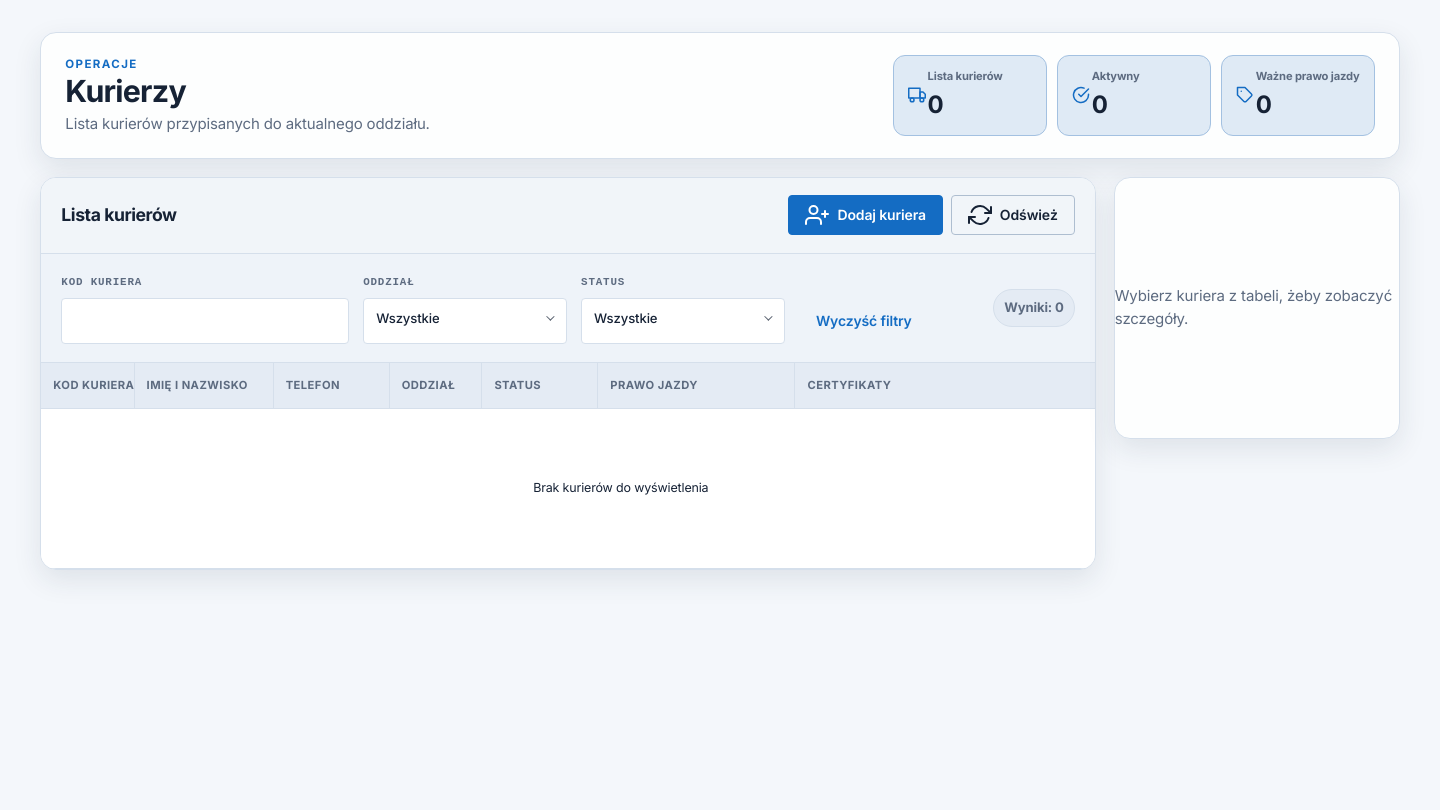
Test: Couriers › uses a real department value and submits a completed create form
The image size is (1440, 810).
Click the button "Dodaj kuriera". click: (866, 215)
box: top-left (788, 195), bottom-right (943, 235)
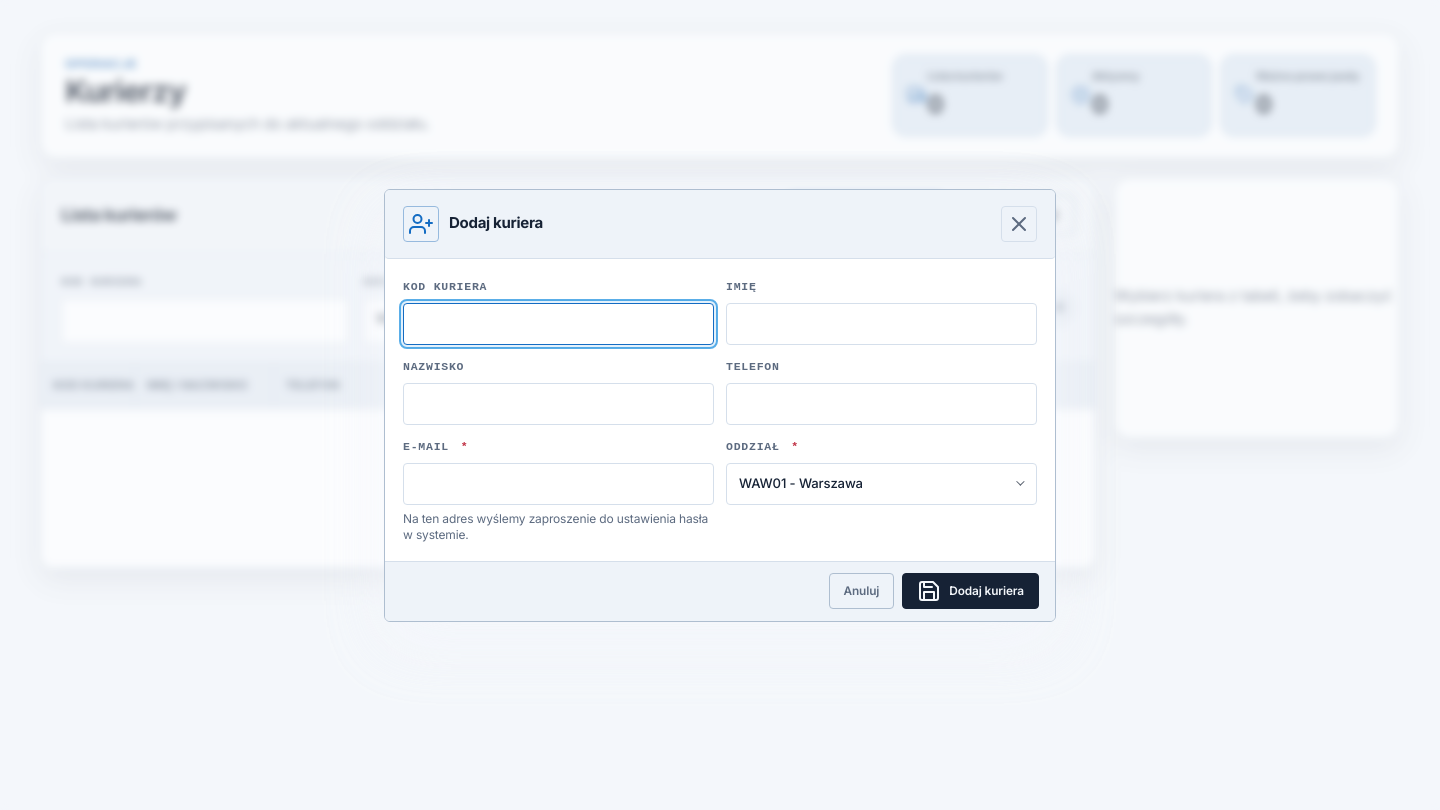
Expected: the dropdown named "Oddział" reads "WAW01 - Warszawa", top-left (727, 464), bottom-right (1036, 502)
Type "KUR-01" into the field labelled "Kod kuriera". click: (558, 324)
box: top-left (403, 302), bottom-right (714, 344)
Type "Jan" into the field labelled "Imię". click: (882, 324)
box: top-left (726, 302), bottom-right (1037, 344)
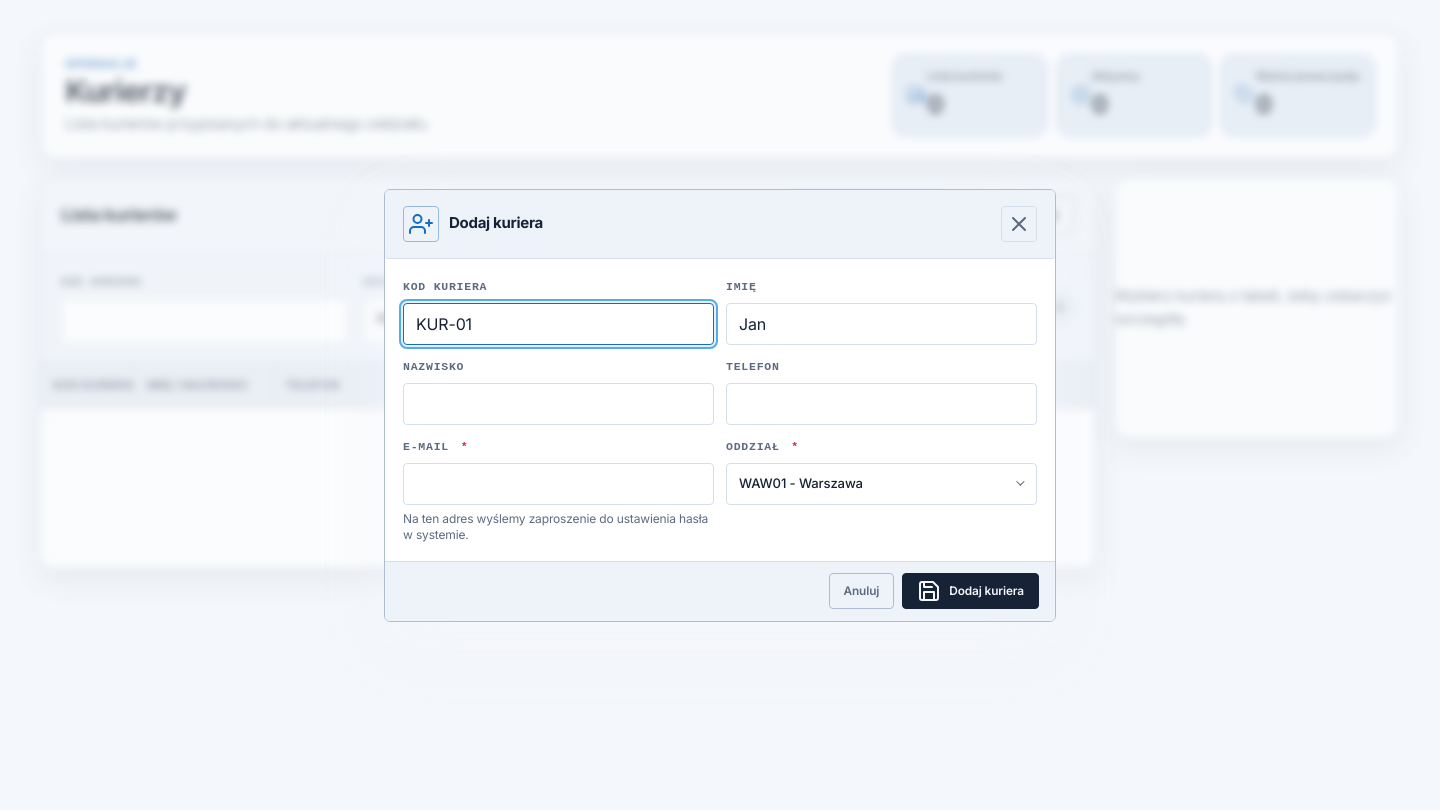
Type "Kowalski" into the field labelled "Nazwisko". click: (558, 404)
box: top-left (403, 382), bottom-right (714, 424)
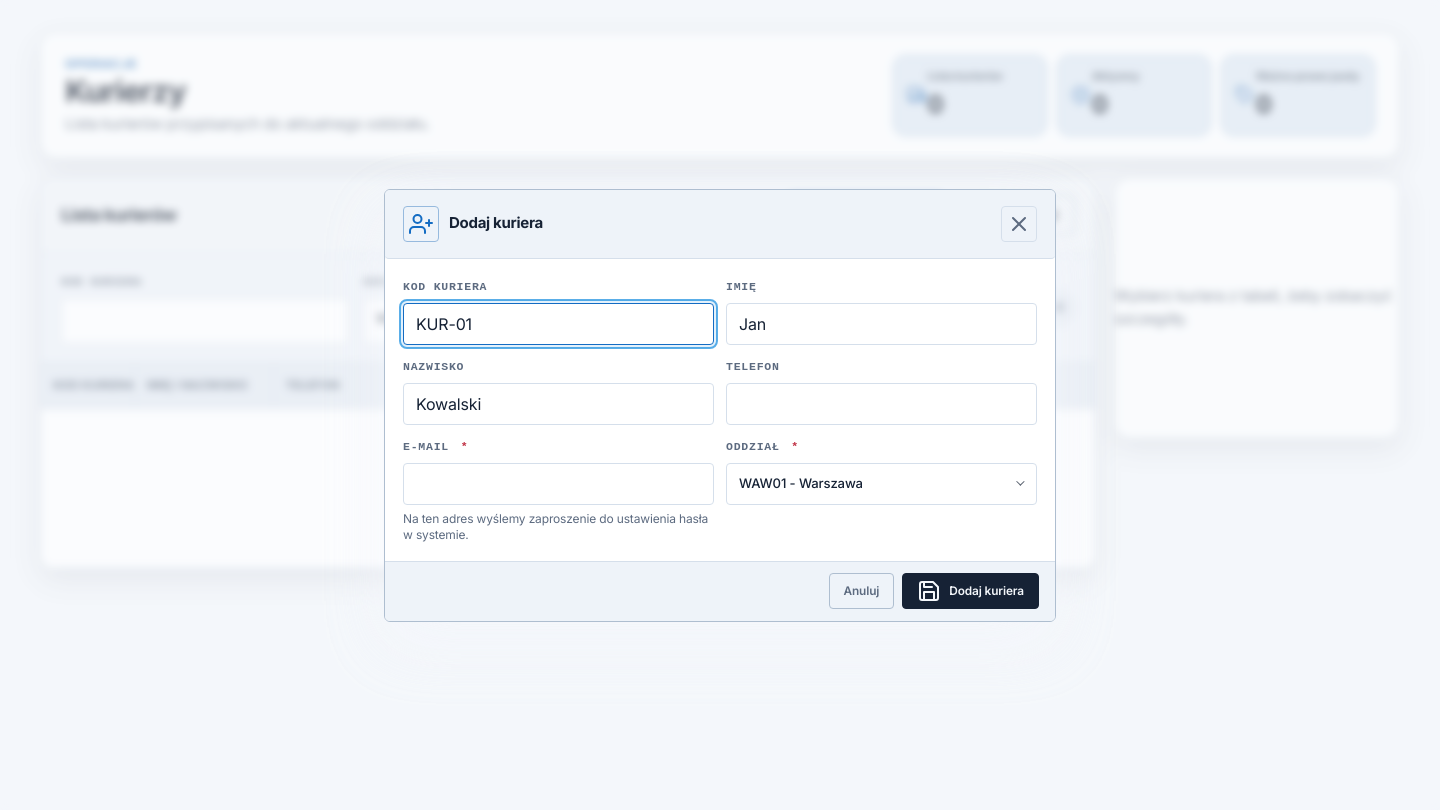
Type "+48123456789" into the field labelled "Telefon". click: (882, 404)
box: top-left (726, 382), bottom-right (1037, 424)
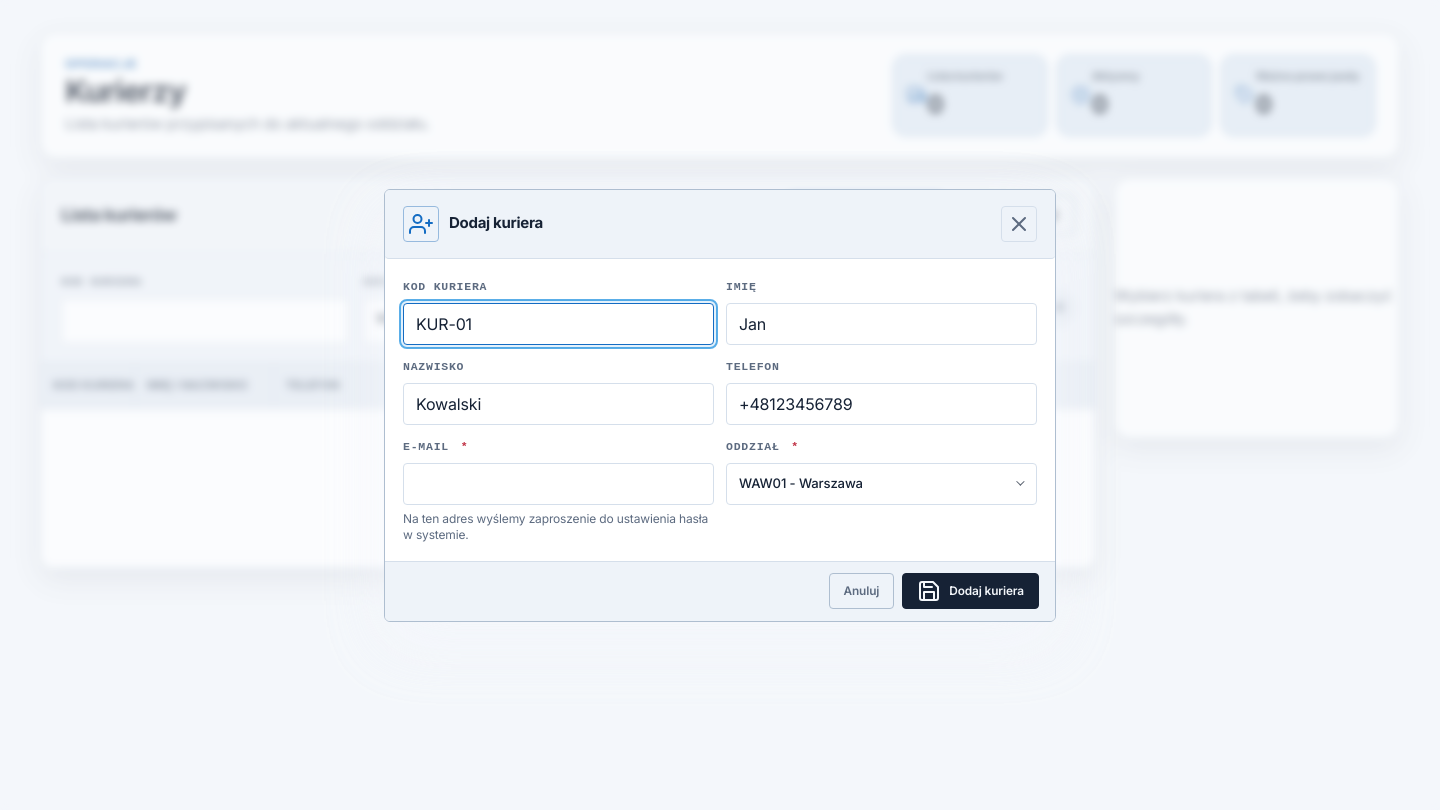
Type "jan.kowalski@example.com" into the field labelled "E-mail". click: (558, 484)
box: top-left (403, 462), bottom-right (714, 504)
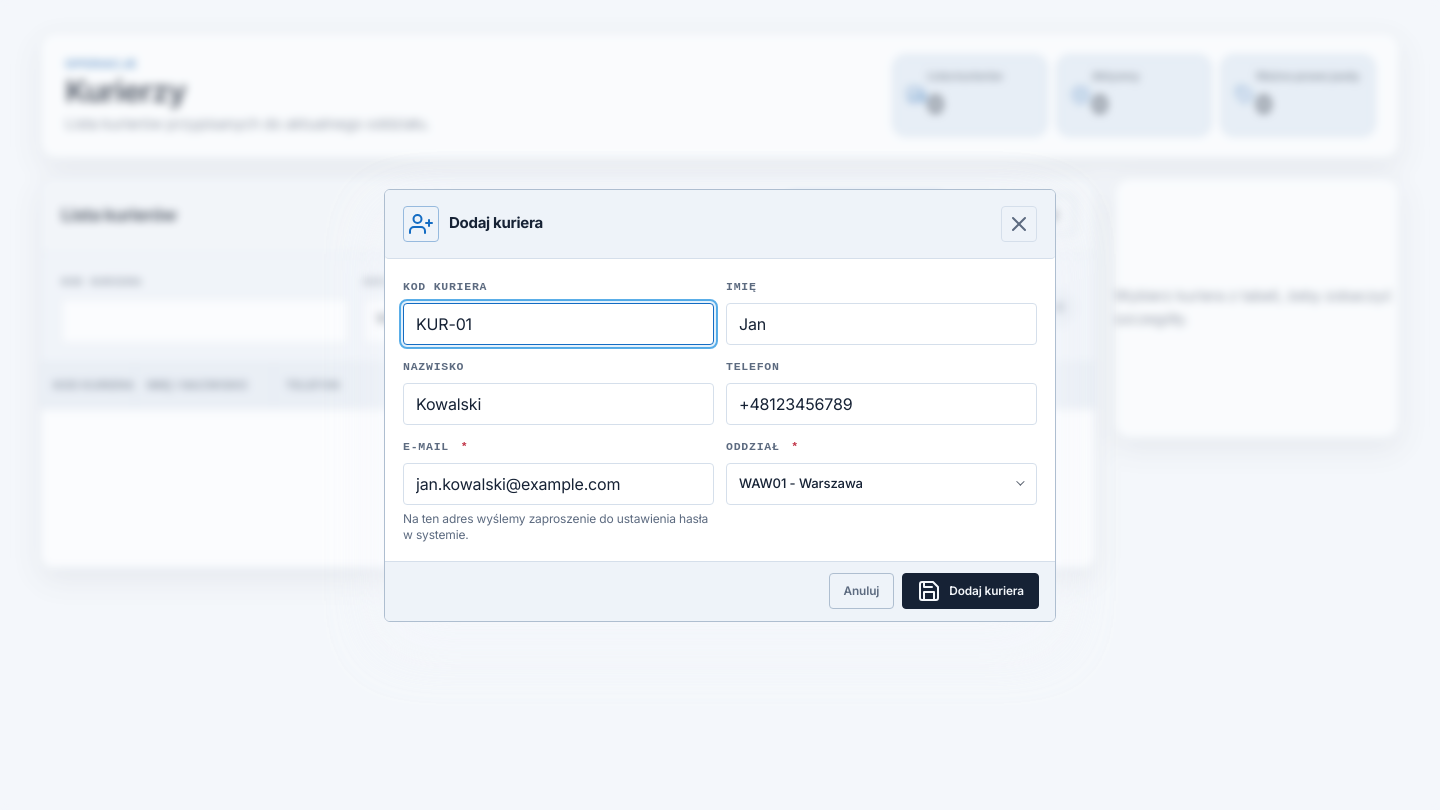
Click the button "Dodaj kuriera". click: (971, 591)
box: top-left (902, 573), bottom-right (1039, 609)
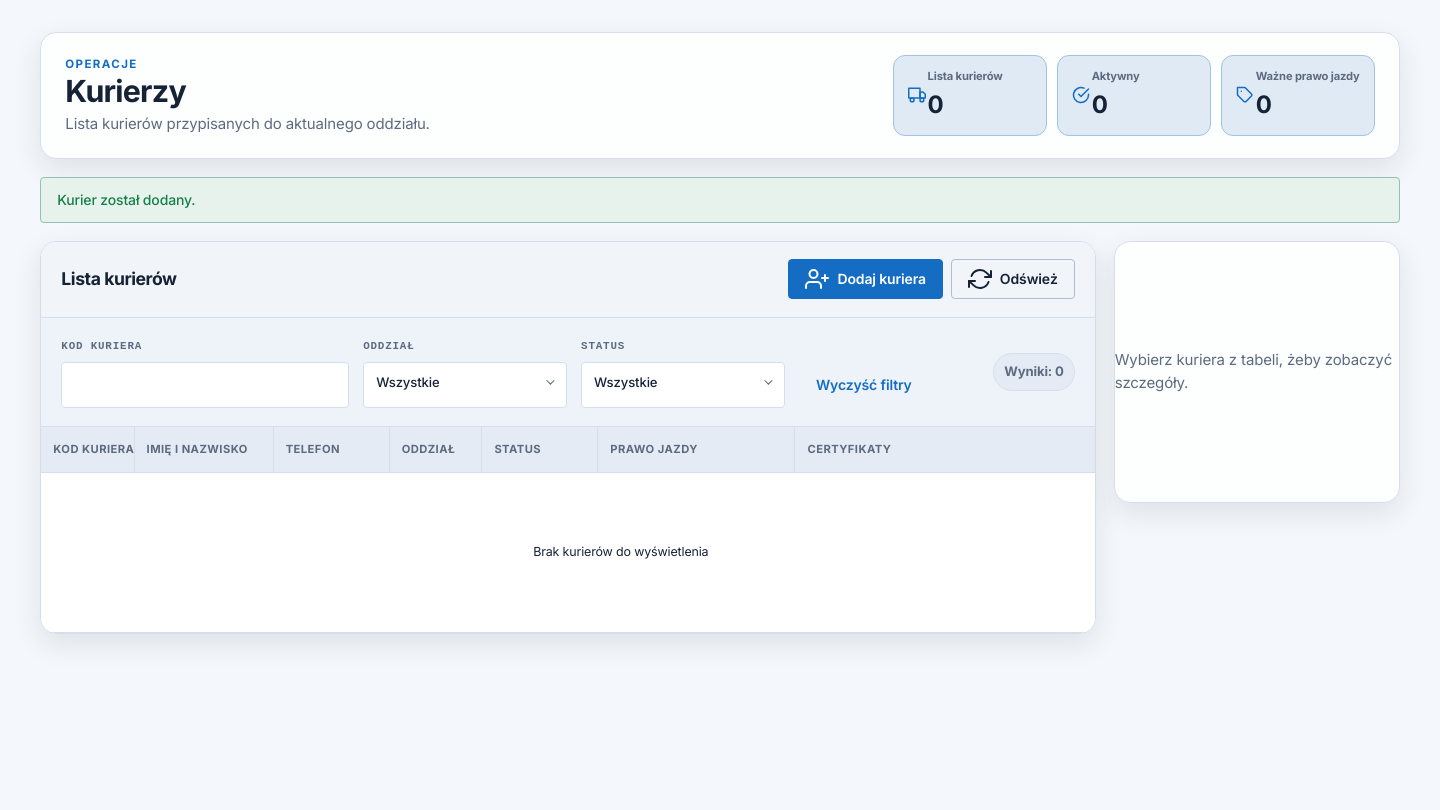
Expected: the text "Kurier został dodany." is shown, top-left (57, 191), bottom-right (195, 208)
